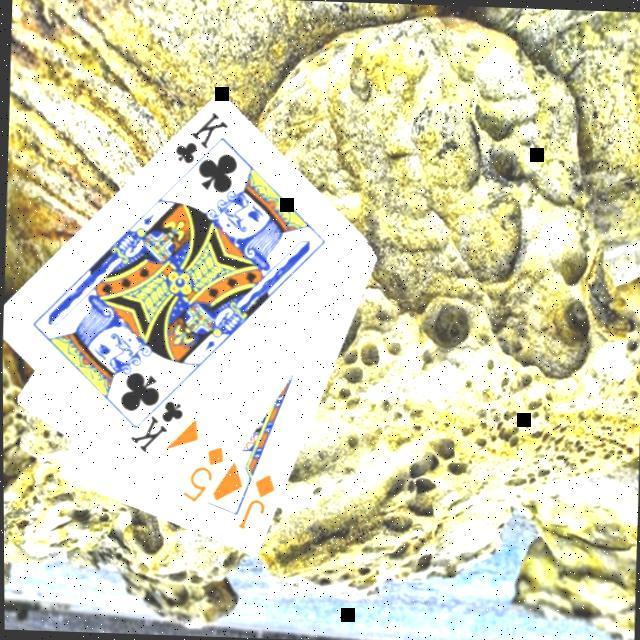5D: (178, 442, 228, 508)
JD: (234, 470, 278, 535)
KC: (170, 108, 232, 182), (126, 385, 187, 459)
